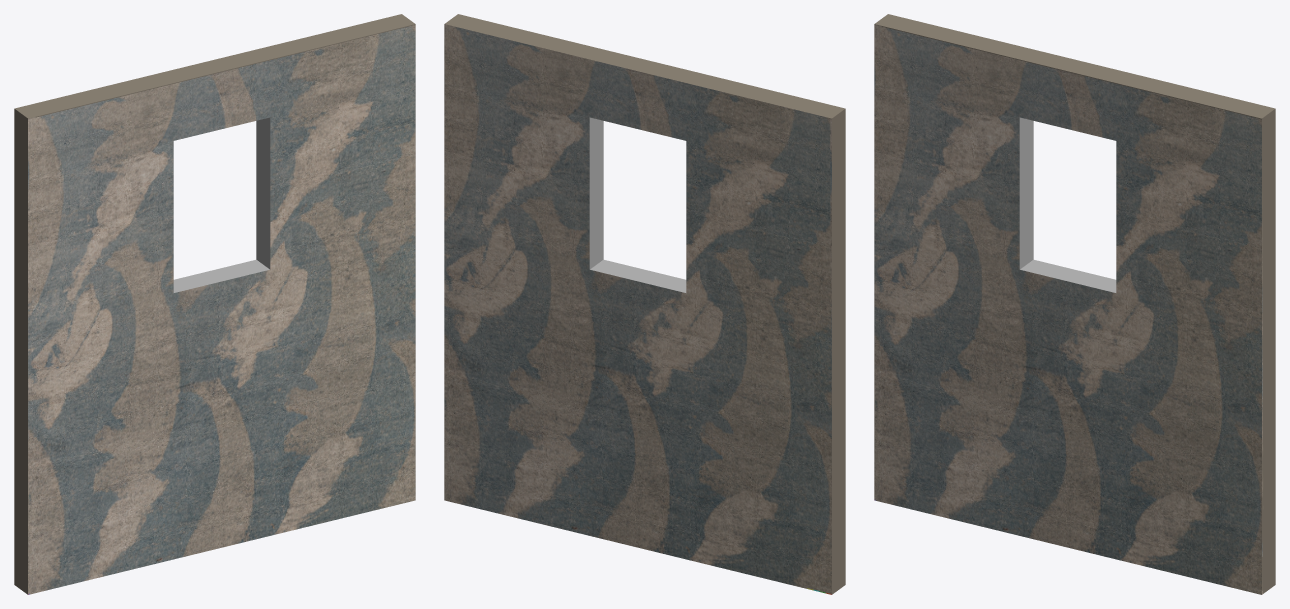
Rendered from Wall_Window.fbx.
The picture shows the model from 3 angles, left to right: view 1: azimuth 30°, elevation 25°; view 2: azimuth 150°, elevation 25°; view 3: azimuth 330°, elevation 25°; orthographic projection.
Parts seen in each view (by area): view 1: polySurface9; view 2: polySurface9; view 3: polySurface9.
Boxes of the visible parts, bbox=[...] form: polySurface9: bbox=[14, 14, 415, 594]; polySurface9: bbox=[444, 14, 845, 594]; polySurface9: bbox=[874, 14, 1275, 594].
Bounding box in the file's own units: 219 × 258 × 13.48.
Materials: 2 (1 with a texture image).
